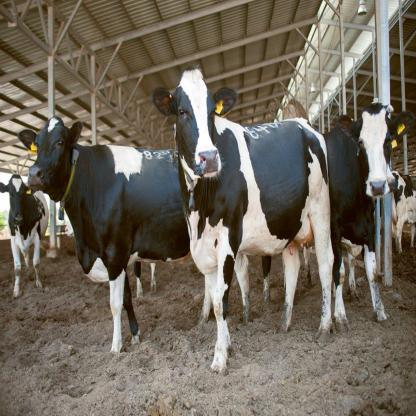cow: (152, 68, 332, 374), (21, 118, 190, 354), (325, 104, 412, 334), (0, 176, 48, 297), (391, 170, 416, 253)
